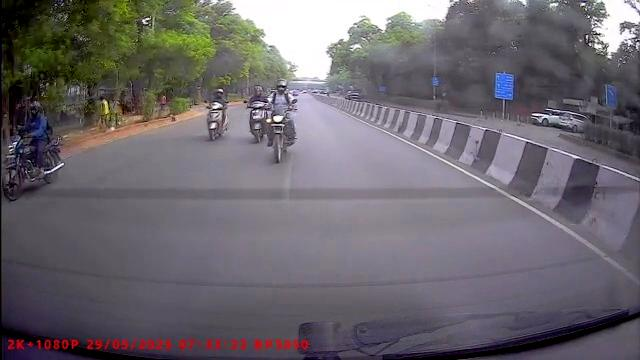motorcycle_with_helmet: (265, 77, 298, 165), (205, 87, 230, 143), (247, 84, 268, 144)
